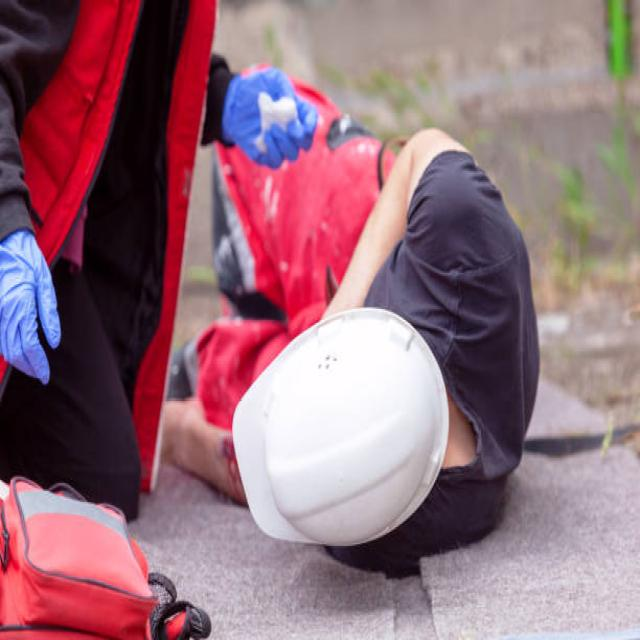gloves: (221, 66, 319, 168), (0, 231, 63, 384)
